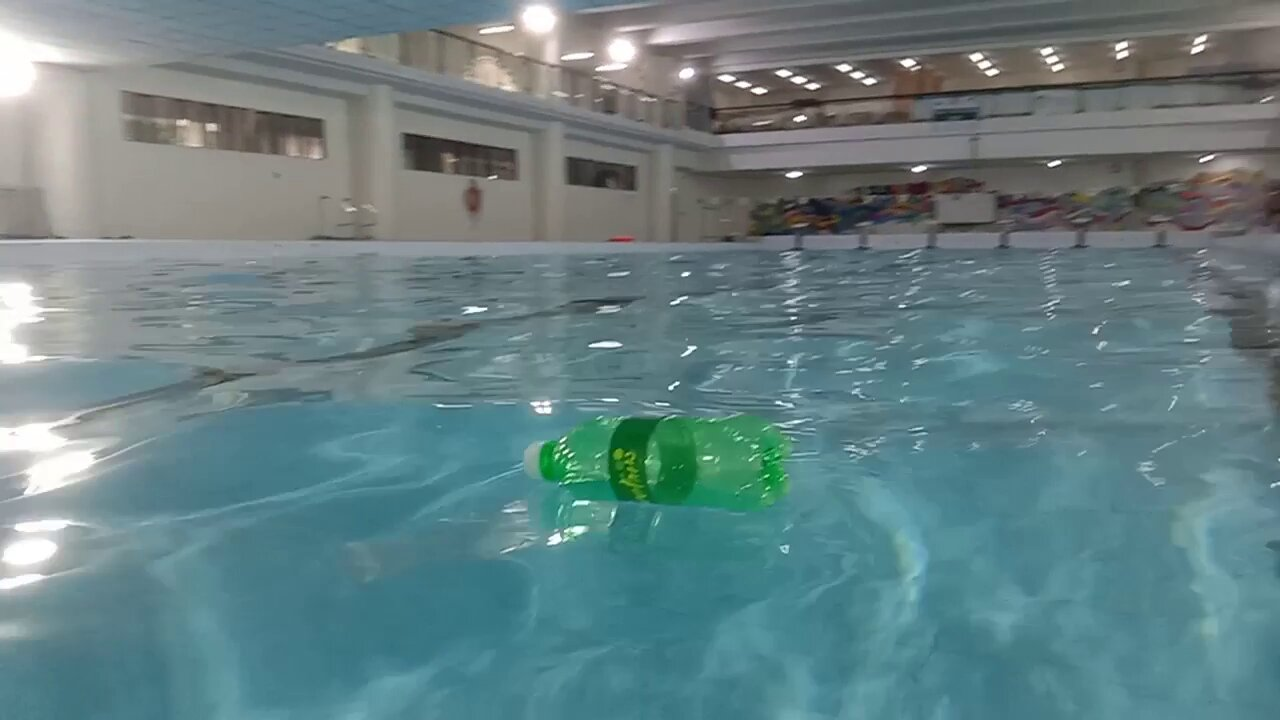plastic_bottle: (522, 413, 791, 505)
